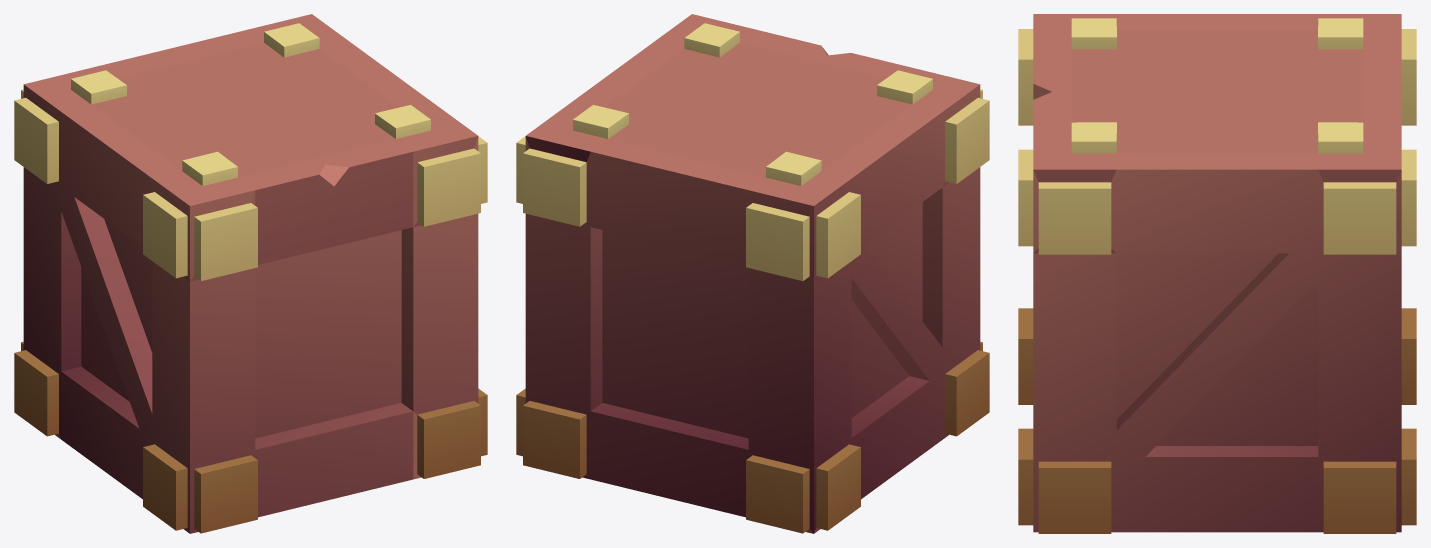
File: ClosedBox.fbx
3 renders of one model, left to right at view 1: azimuth 30°, elevation 25°; view 2: azimuth 150°, elevation 25°; view 3: azimuth 270°, elevation 25°, orthographic. The views are drawn at different scales.
Visible parts, largest first — view 1: ClosedBox_Mesh; view 2: ClosedBox_Mesh; view 3: ClosedBox_Mesh.
Part boxes in pixels (x1,y1,x2,y2): ClosedBox_Mesh: (14,14,487,533); ClosedBox_Mesh: (516,14,989,533); ClosedBox_Mesh: (1018,14,1416,533).
Bounding box in the file's own units: 264 × 274 × 264.
